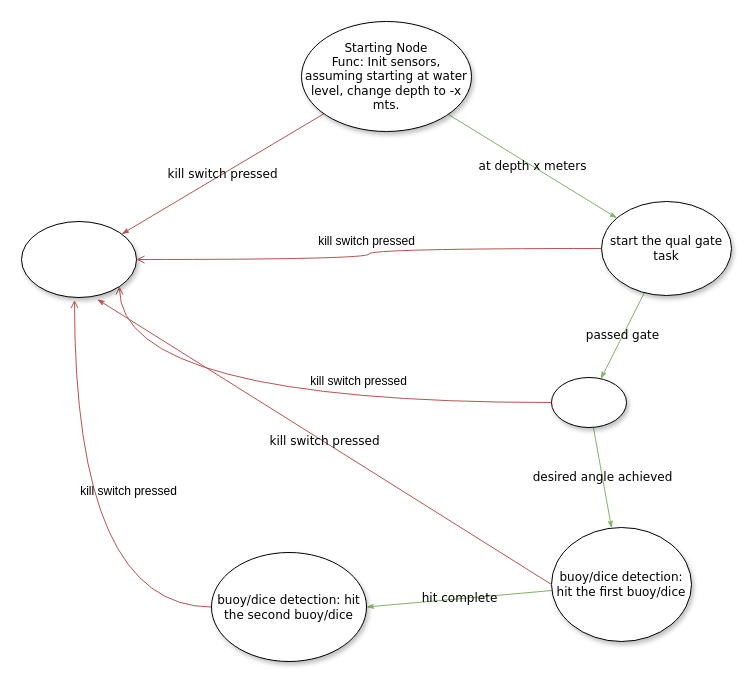
The diagram is 755 pixels wide and 686 high, and some of its shapes have lost their labels. The centre of each missing label's shape, as x and y in pixels:
kill the sub: turn of the thrusters: (79,260)
path marker detection: (589,403)
